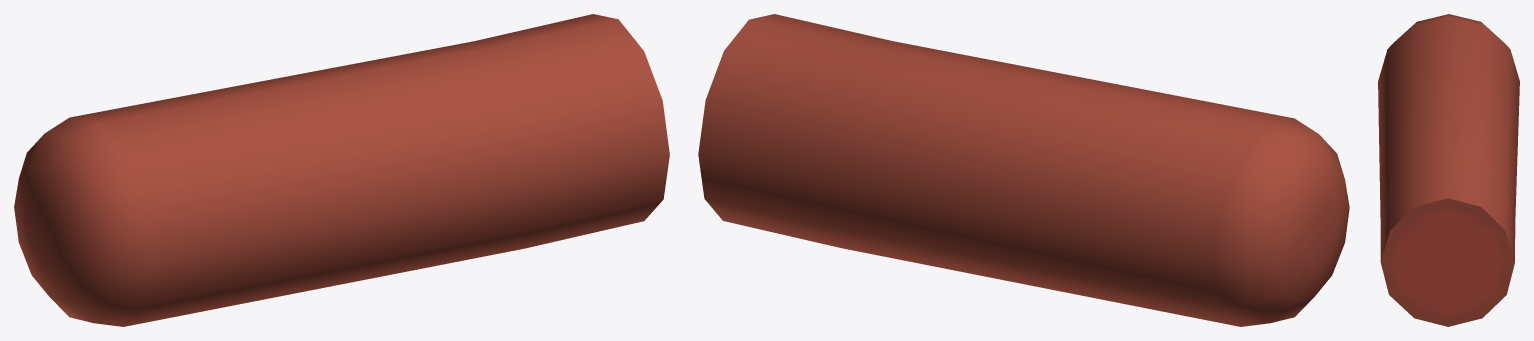
Rendered from Sausage_half.002.fbx.
The picture shows the model from 3 angles, left to right: view 1: azimuth 30°, elevation 25°; view 2: azimuth 150°, elevation 25°; view 3: azimuth 270°, elevation 25°; orthographic projection. The views are drawn at different scales.
Parts seen in each view (by area): view 1: Sausage_half.002; view 2: Sausage_half.002; view 3: Sausage_half.002.
Boxes of the visible parts, x1,y1,x2,y2 form: Sausage_half.002: (14, 14, 669, 326); Sausage_half.002: (698, 14, 1349, 326); Sausage_half.002: (1378, 14, 1519, 326).
Size of the model in its own units: 79.77 by 25.95 by 28.84.
